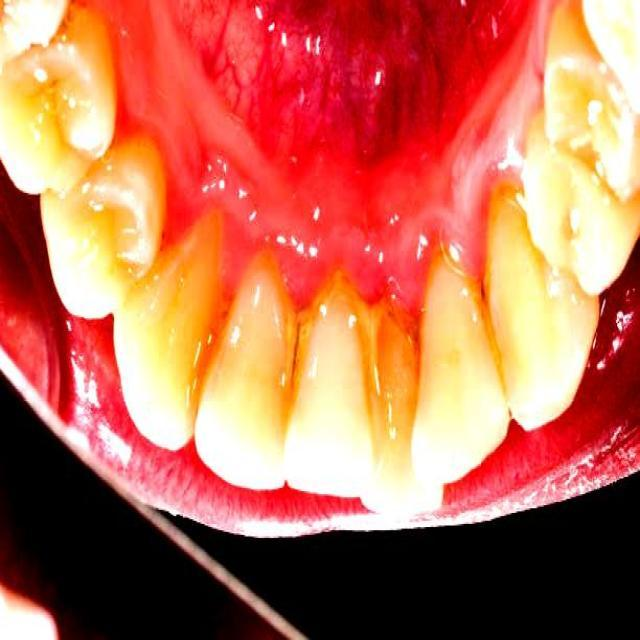calculus: (486, 184, 598, 428), (114, 212, 226, 448), (196, 256, 296, 488), (412, 254, 508, 483), (284, 270, 378, 497), (374, 306, 416, 494)
